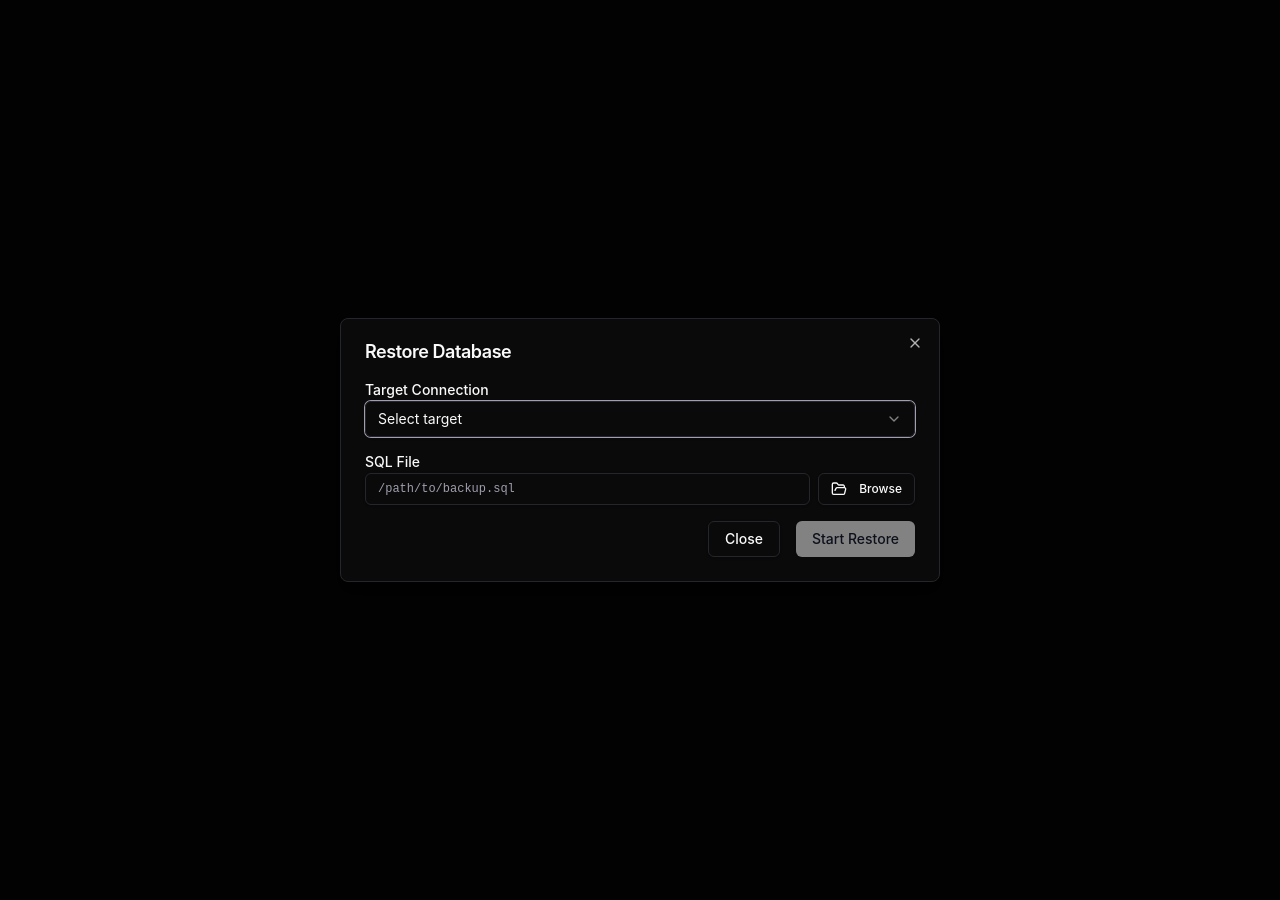
Test: shows connected connections in target dropdown
Click the dropdown "Select target": coordinates (420, 418) [365,401,915,437]
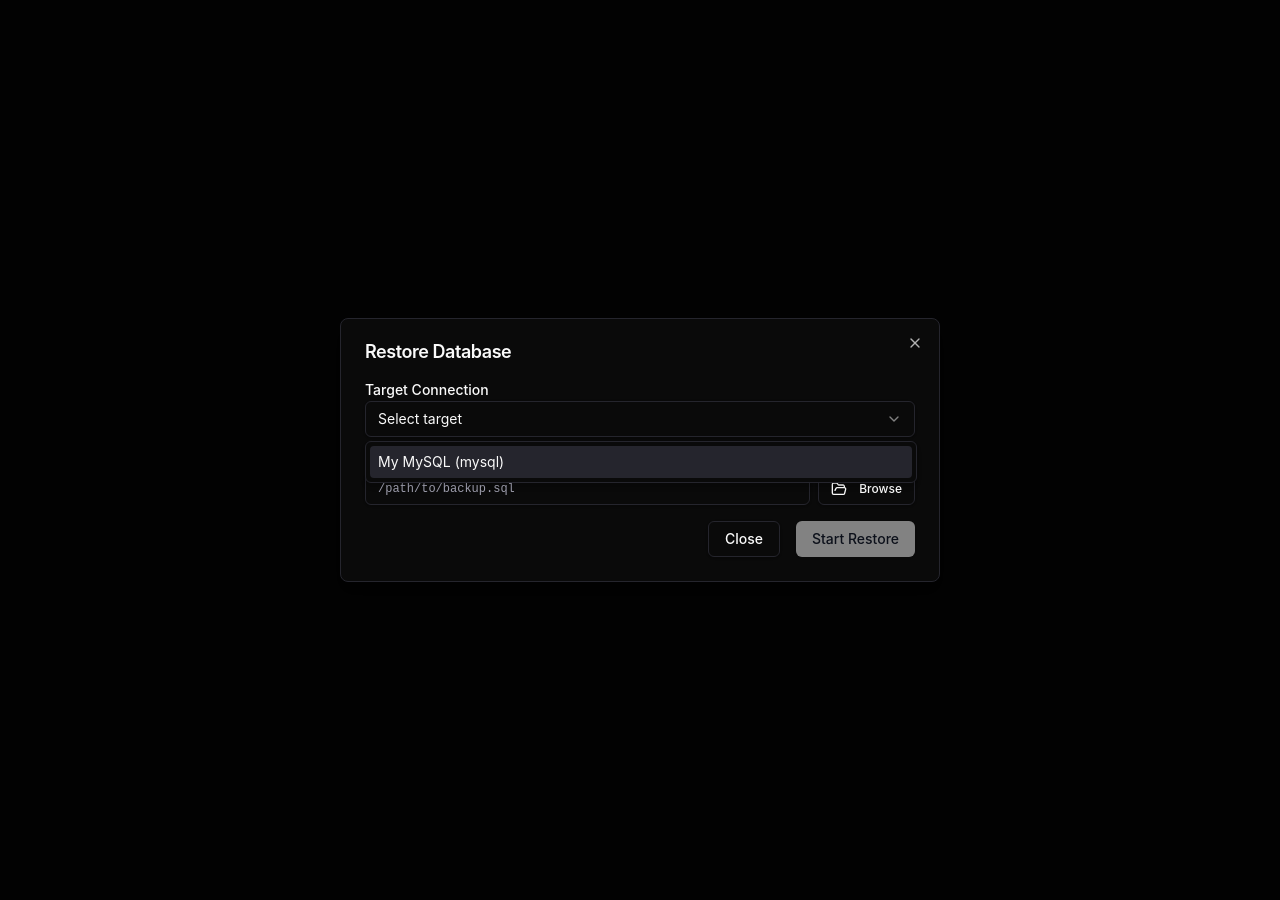
Check: the text "My MySQL (mysql)" is shown, box [378,452,504,472]
